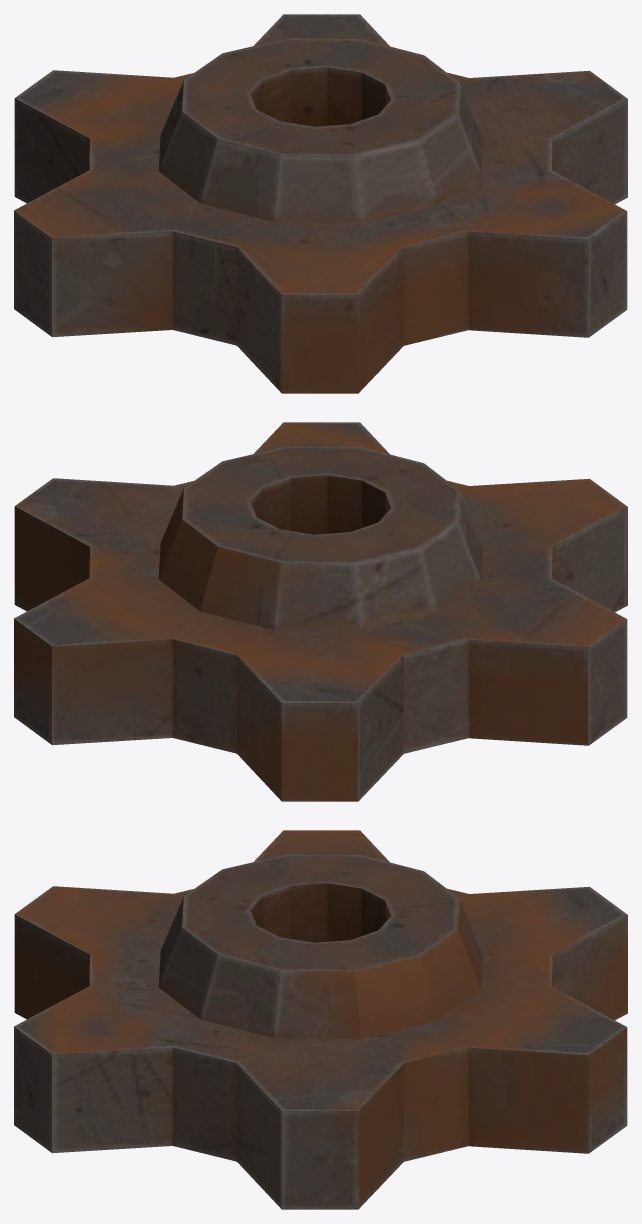
Rendered from SteelGear.glb.
3 renders of one model, top to bottom at view 1: azimuth 30°, elevation 25°; view 2: azimuth 150°, elevation 25°; view 3: azimuth 270°, elevation 25°, orthographic.
Visible parts, largest first — view 1: SteelGear; view 2: SteelGear; view 3: SteelGear.
Boxes of the visible parts, left/top/right/bottom form: SteelGear: left=14, top=14, right=627, bottom=393; SteelGear: left=14, top=422, right=627, bottom=801; SteelGear: left=14, top=830, right=627, bottom=1209.
Bounding box in the file's own units: 0.4552 × 0.1182 × 0.4208.
1 material, 1 textured.
